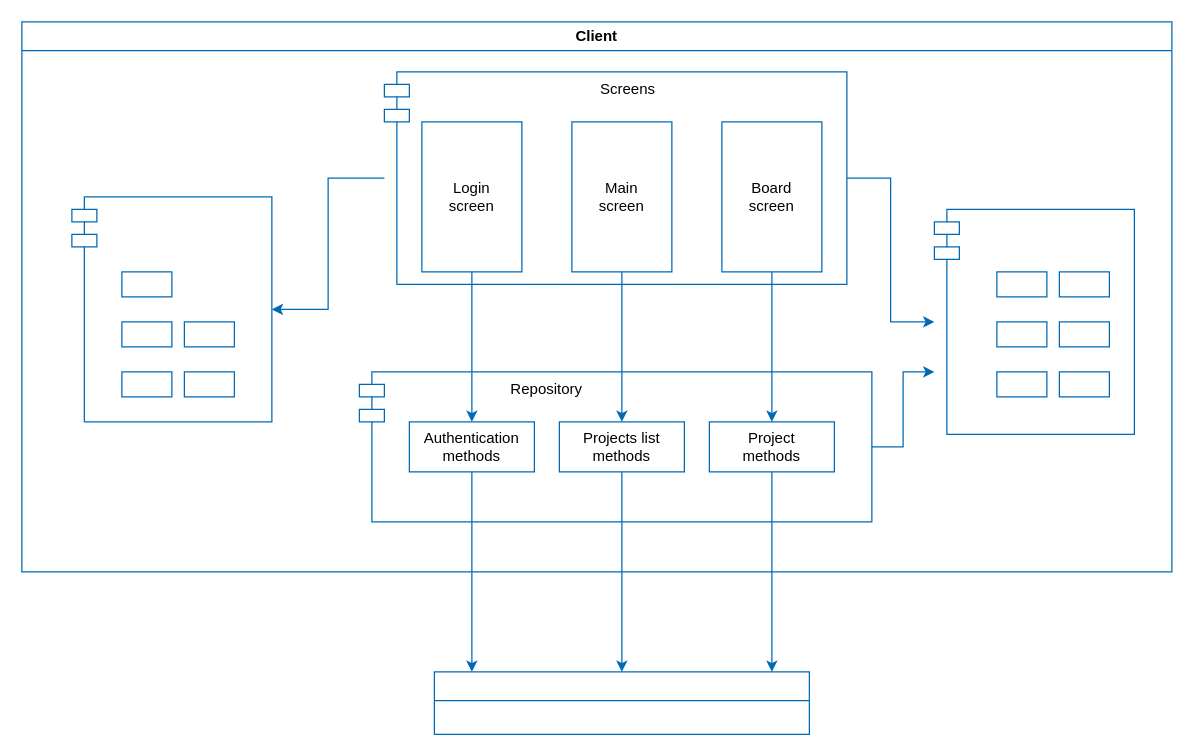
Some shapes in this 1194 by 756 pixel diagram are drawn without their labels. The box of each missing label's shape, as (x1, y1, x2, y2) in pixels:
Models: (933, 208, 1134, 434)
Server: (433, 671, 809, 734)
Widgets: (71, 196, 272, 422)
